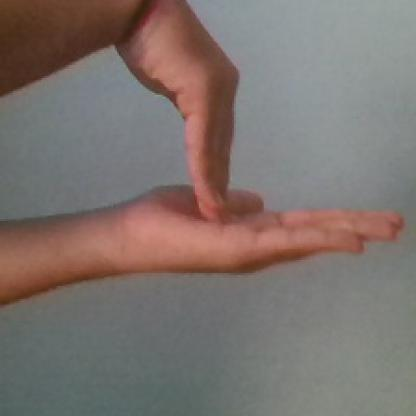Z: (102, 0, 413, 281)
